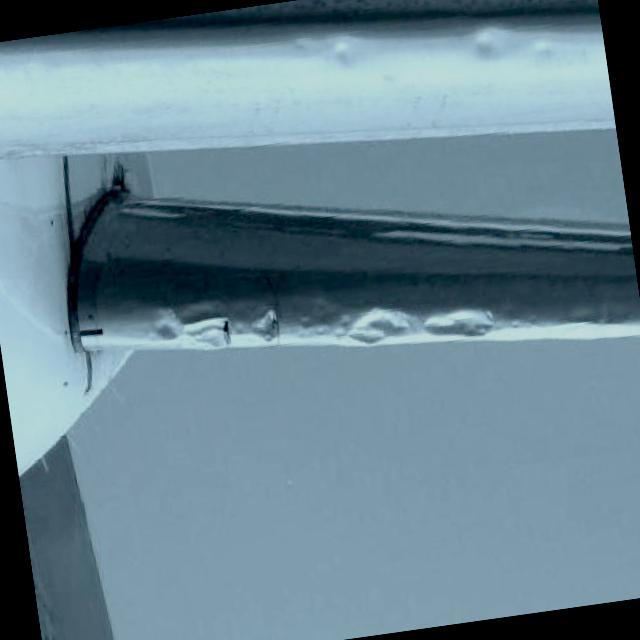dent: (348, 302, 417, 345), (423, 305, 494, 340), (293, 306, 348, 344), (187, 316, 231, 352), (472, 28, 509, 59), (326, 36, 359, 70), (254, 310, 280, 344), (155, 314, 177, 342)
